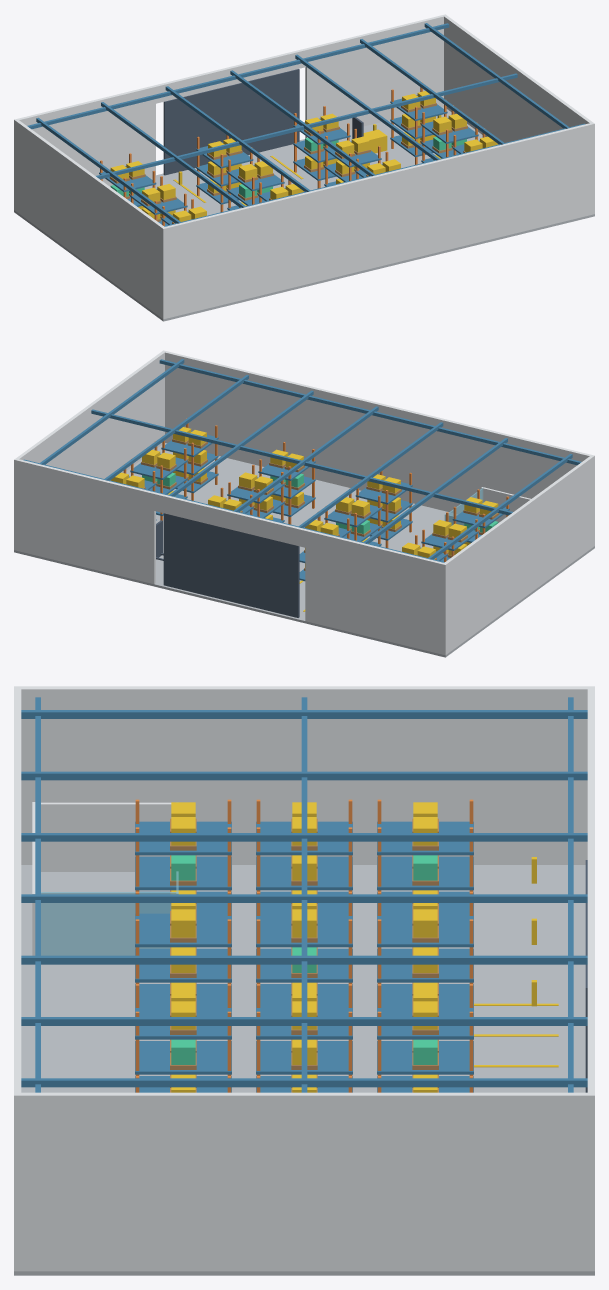
Rendered from bodega-demo.glb.
The picture shows the model from 3 angles, top to bottom: view 1: azimuth 30°, elevation 25°; view 2: azimuth 150°, elevation 25°; view 3: azimuth 270°, elevation 25°; orthographic projection. The views are drawn at different scales.
Visible parts, largest first — view 1: Bodega demo 40x24x8m; view 2: Bodega demo 40x24x8m; view 3: Bodega demo 40x24x8m.
Part boxes in pixels (<box>): Bodega demo 40x24x8m: <box>14,14,594,321</box>; Bodega demo 40x24x8m: <box>14,350,594,657</box>; Bodega demo 40x24x8m: <box>14,686,594,1275</box>.
Bounding box in the file's own units: 40 × 8.2 × 24.
